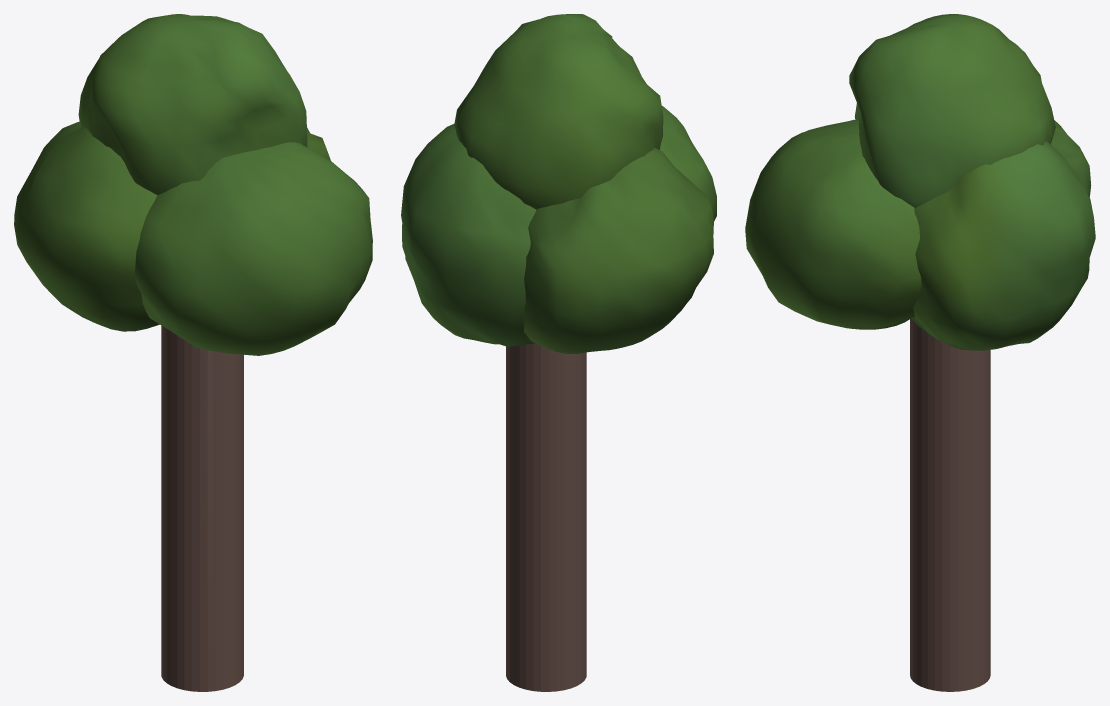
File: TreeV2.2.glb
3 renders of one model, left to right at view 1: azimuth 30°, elevation 25°; view 2: azimuth 150°, elevation 25°; view 3: azimuth 270°, elevation 25°, orthographic. The views are drawn at different scales.
Visible parts, largest first — view 1: Sphere.001, Cylinder; view 2: Sphere.001, Cylinder; view 3: Sphere.001, Cylinder.
Boxes of the visible parts, left/top/right/bottom form: Sphere.001: left=14, top=14, right=372, bottom=355; Cylinder: left=161, top=325, right=243, bottom=691; Sphere.001: left=401, top=14, right=716, bottom=353; Cylinder: left=506, top=343, right=586, bottom=691; Sphere.001: left=745, top=14, right=1095, bottom=350; Cylinder: left=910, top=319, right=990, bottom=691.
Size of the model in its own units: 8.38 by 17.57 by 8.67.
